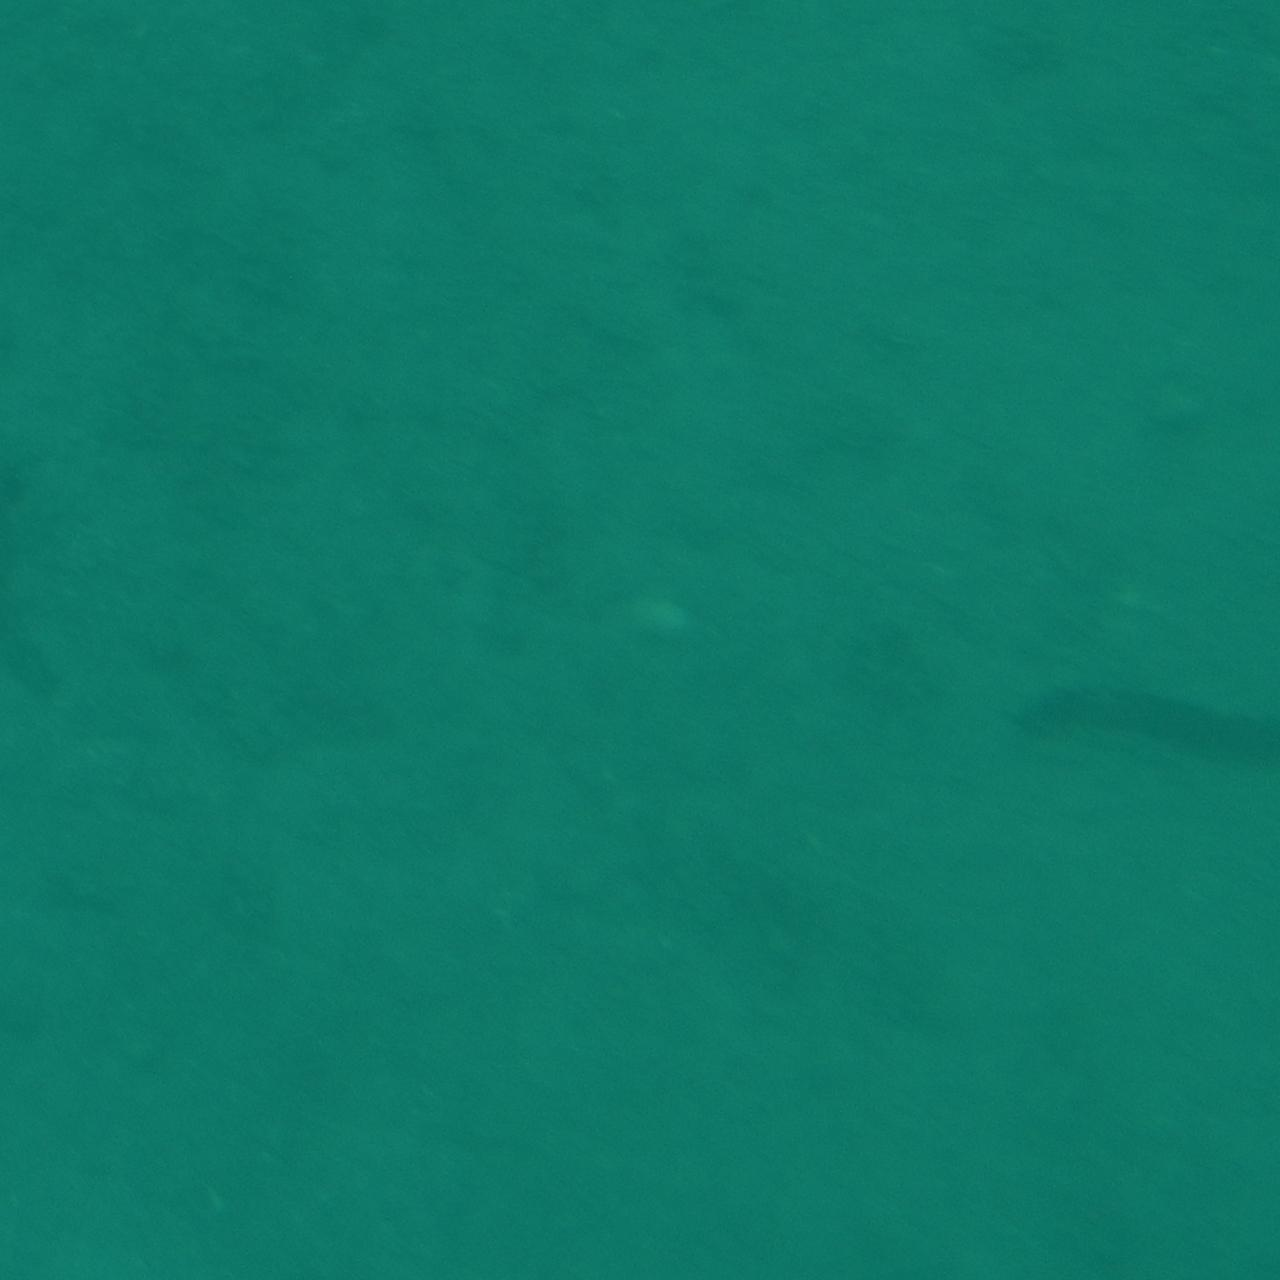Holothuria tubulosa: (1035, 661, 1280, 803)
